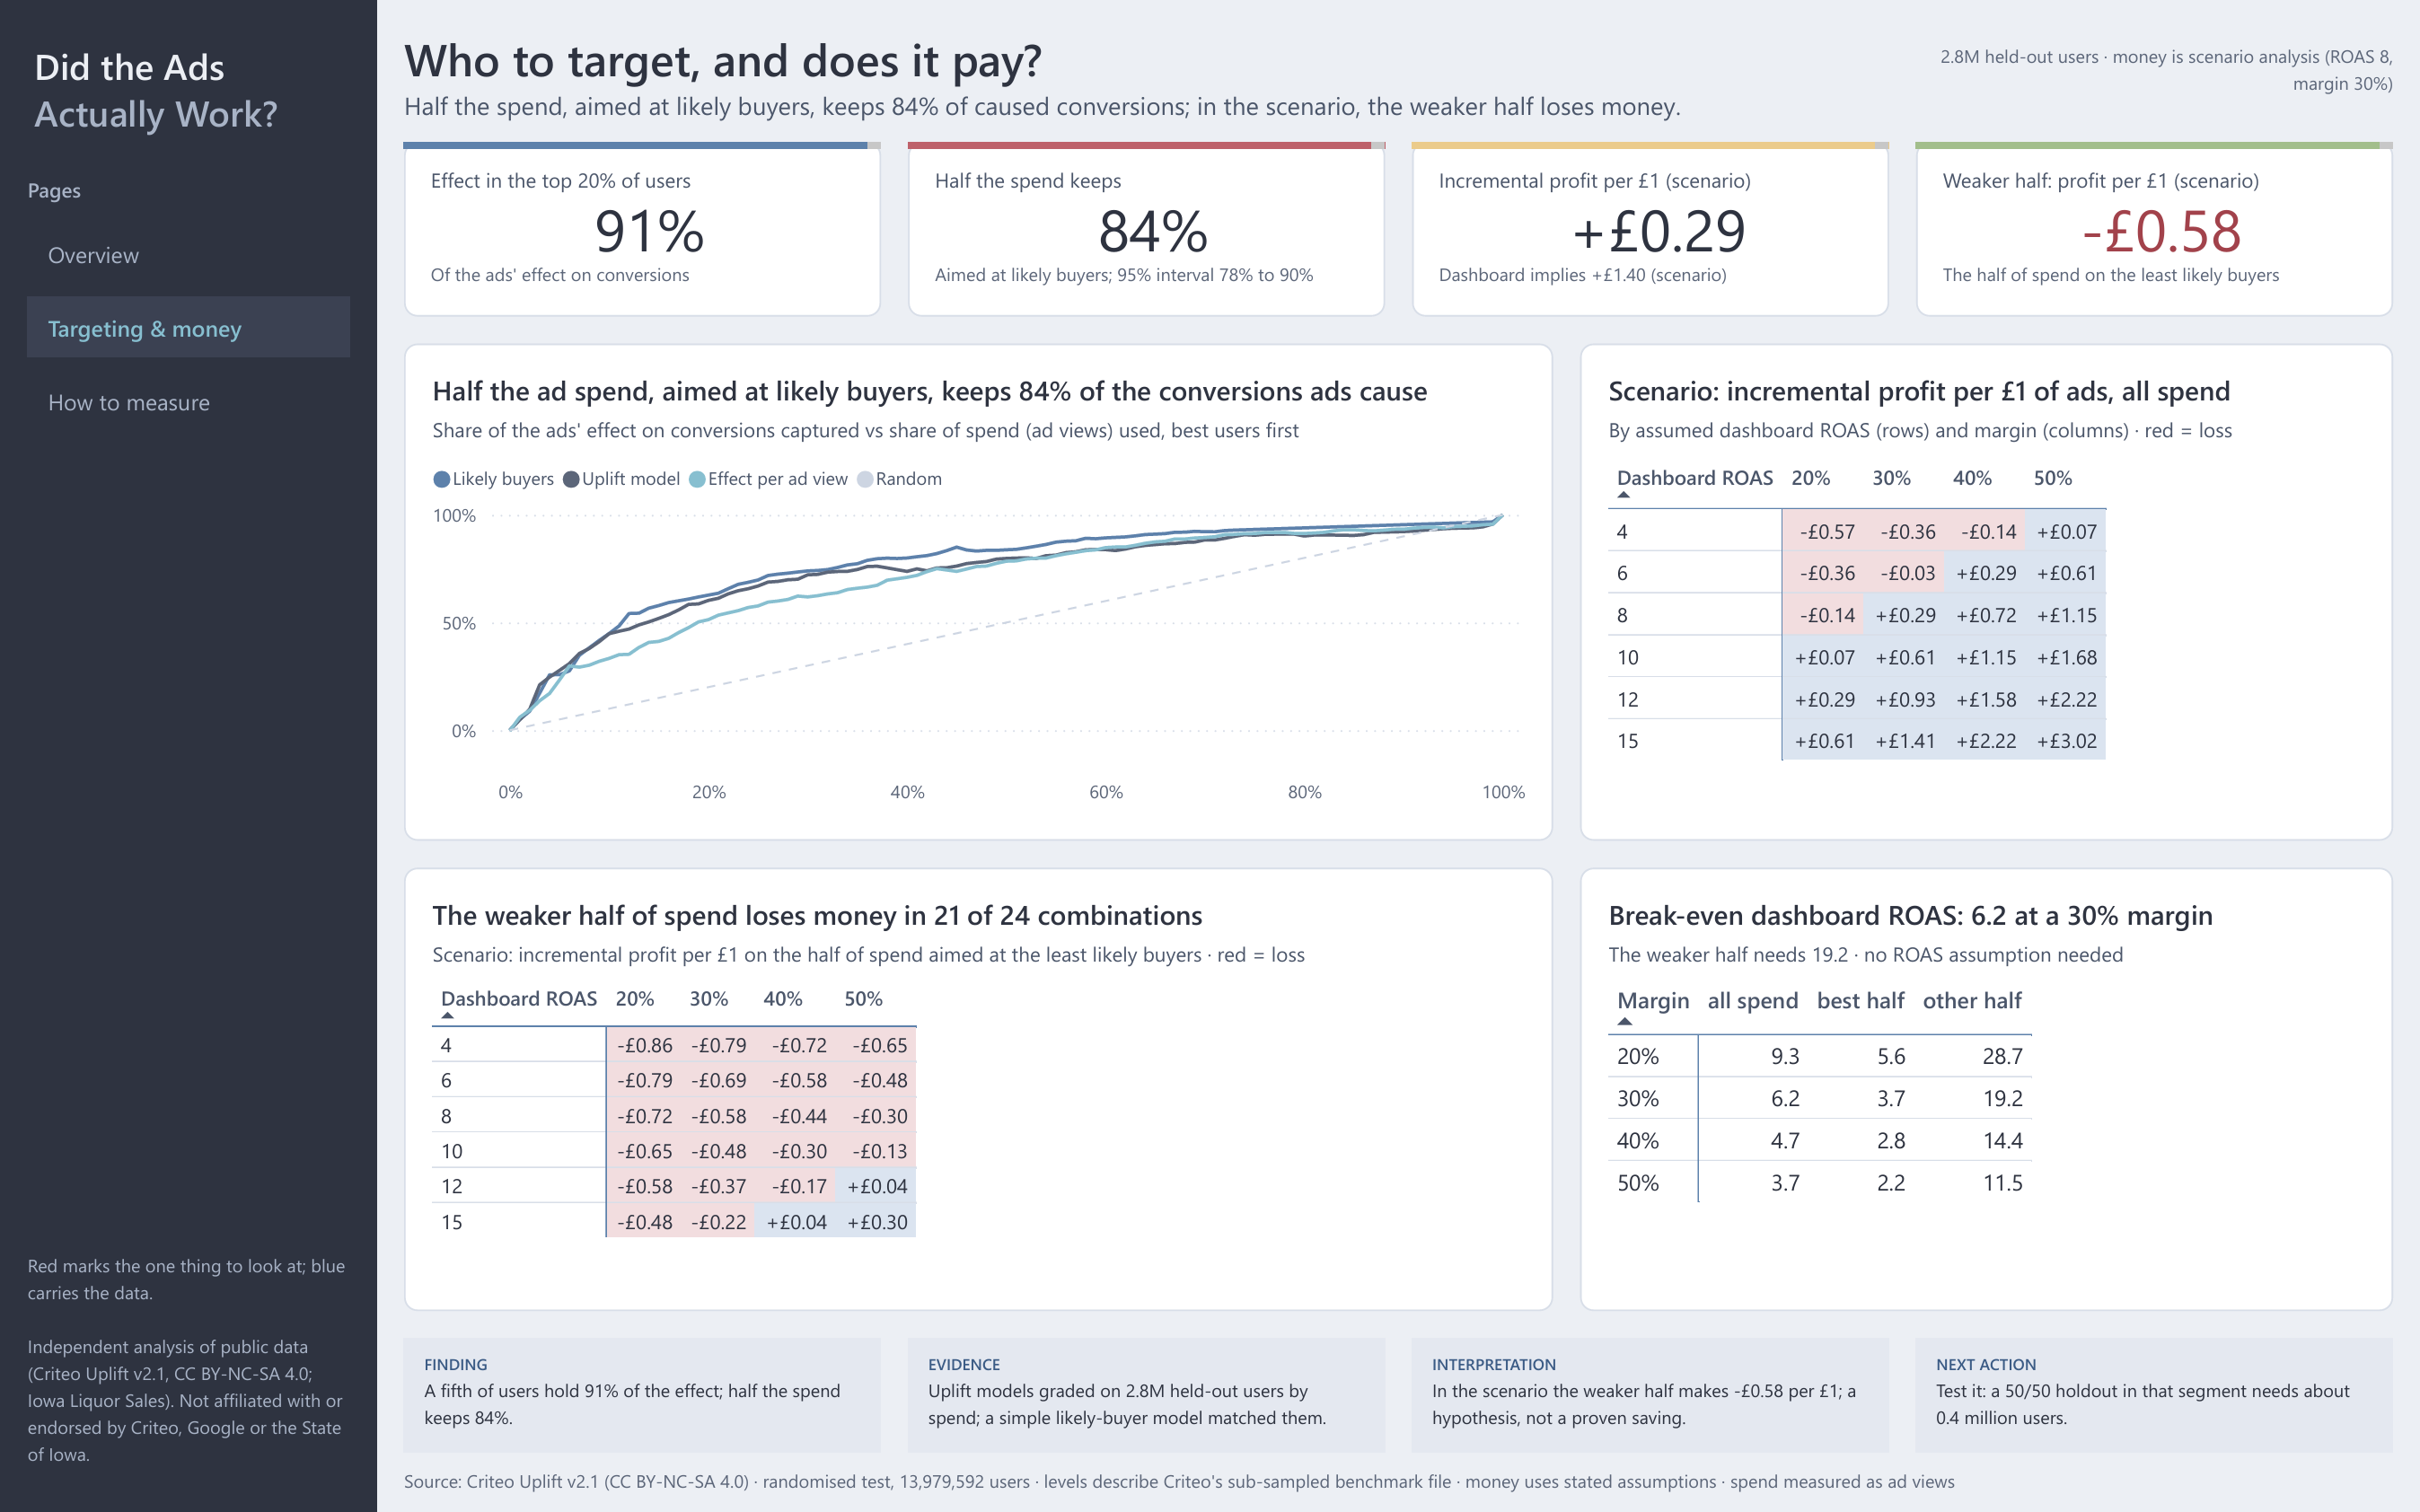

This screenshot's page, from the dashboard's own definition file:
{"tool":"powerbi","page":{"name":"Targeting & money","canvas":[1440,900],"ordinal":1},"visuals":[{"type":"textbox","box":[0,0,224,900],"z":0},{"type":"textbox","box":[16,104,192,24],"z":100},{"type":"actionButton","box":[16,132,192,36],"z":200},{"type":"actionButton","box":[16,176,192,36],"z":300},{"type":"actionButton","box":[16,220,192,36],"z":400},{"type":"textbox","box":[16,744,192,140],"z":500},{"type":"textbox","box":[240,16,884,56],"z":600},{"type":"textbox","box":[1140,16,284,56],"z":700},{"type":"textbox","box":[240,84,284,104],"z":800},{"type":"textbox","box":[240,84,284,4],"z":900},{"type":"card","title":"Effect in the top 20% of users","fields":{"Values":["_Measures.Top 20 Share"]},"box":[240,90,284,64],"z":1000},{"type":"textbox","box":[240,154,284,28],"z":1100},{"type":"textbox","box":[540,84,284,104],"z":1200},{"type":"textbox","box":[540,84,284,4],"z":1300},{"type":"card","title":"Half the spend keeps","fields":{"Values":["_Measures.Half Spend Keeps"]},"box":[540,90,284,64],"z":1400},{"type":"textbox","box":[540,154,284,28],"z":1500},{"type":"textbox","box":[840,84,284,104],"z":1600},{"type":"textbox","box":[840,84,284,4],"z":1700},{"type":"card","title":"Incremental profit per £1 (scenario)","fields":{"Values":["_Measures.Incremental Profit per Pound"]},"box":[840,90,284,64],"z":1800},{"type":"textbox","box":[840,154,284,28],"z":1900},{"type":"textbox","box":[1140,84,284,104],"z":2000},{"type":"textbox","box":[1140,84,284,4],"z":2100},{"type":"card","title":"Weaker half: profit per £1 (scenario)","fields":{"Values":["_Measures.Weaker Half Profit per Pound"]},"box":[1140,90,284,64],"z":2200},{"type":"textbox","box":[1140,154,284,28],"z":2300},{"type":"lineChart","title":"Half the ad spend, aimed at likely buyers, keeps 84% of the conversions ads cause","fields":{"Category":["targeting_curves.x"],"Y":["_Measures.Captured Likely Buyers","_Measures.Captured Uplift Model","_Measures.Captured Per Ad View","_Measures.Random Targeting"]},"box":[240,204,684,296],"z":2400},{"type":"pivotTable","title":"Scenario: incremental profit per £1 of ads, all spend","fields":{"Columns":["money_sensitivity.margin"],"Rows":["money_sensitivity.dashboard_roas"],"Values":["_Measures.Profit All Spend"]},"box":[940,204,484,296],"z":2500},{"type":"pivotTable","title":"The weaker half of spend loses money in 21 of 24 combinations","fields":{"Columns":["money_sensitivity.margin"],"Rows":["money_sensitivity.dashboard_roas"],"Values":["_Measures.Profit Weaker Half"]},"box":[240,516,684,264],"z":2600},{"type":"pivotTable","title":"Break-even dashboard ROAS: 6.2 at a 30% margin","fields":{"Columns":["break_even.spend"],"Rows":["break_even.margin"],"Values":["_Measures.Break Even ROAS Cell"]},"box":[940,516,484,264],"z":2700},{"type":"textbox","box":[240,796,284,68],"z":2800},{"type":"textbox","box":[540,796,284,68],"z":2900},{"type":"textbox","box":[840,796,284,68],"z":3000},{"type":"textbox","box":[1140,796,284,68],"z":3100},{"type":"textbox","box":[240,872,1184,20],"z":3200}]}

Visuals, with their boxes on the page's 1440x900 design canvas (x1, y1, x2, y2). These are canvas units, not pixel positions in the 2420x1512 screenshot, which may show the page scaled, cropped or inside an application window:
textbox: l=0, t=0, r=224, b=900
textbox: l=16, t=104, r=208, b=128
actionButton: l=16, t=132, r=208, b=168
actionButton: l=16, t=176, r=208, b=212
actionButton: l=16, t=220, r=208, b=256
textbox: l=16, t=744, r=208, b=884
textbox: l=240, t=16, r=1124, b=72
textbox: l=1140, t=16, r=1424, b=72
textbox: l=240, t=84, r=524, b=188
textbox: l=240, t=84, r=524, b=88
"Effect in the top 20% of users" card: l=240, t=90, r=524, b=154
textbox: l=240, t=154, r=524, b=182
textbox: l=540, t=84, r=824, b=188
textbox: l=540, t=84, r=824, b=88
"Half the spend keeps" card: l=540, t=90, r=824, b=154
textbox: l=540, t=154, r=824, b=182
textbox: l=840, t=84, r=1124, b=188
textbox: l=840, t=84, r=1124, b=88
"Incremental profit per £1 (scenario)" card: l=840, t=90, r=1124, b=154
textbox: l=840, t=154, r=1124, b=182
textbox: l=1140, t=84, r=1424, b=188
textbox: l=1140, t=84, r=1424, b=88
"Weaker half: profit per £1 (scenario)" card: l=1140, t=90, r=1424, b=154
textbox: l=1140, t=154, r=1424, b=182
"Half the ad spend, aimed at likely buyers, keeps 84% of the conversions ads cause" lineChart: l=240, t=204, r=924, b=500
"Scenario: incremental profit per £1 of ads, all spend" pivotTable: l=940, t=204, r=1424, b=500
"The weaker half of spend loses money in 21 of 24 combinations" pivotTable: l=240, t=516, r=924, b=780
"Break-even dashboard ROAS: 6.2 at a 30% margin" pivotTable: l=940, t=516, r=1424, b=780
textbox: l=240, t=796, r=524, b=864
textbox: l=540, t=796, r=824, b=864
textbox: l=840, t=796, r=1124, b=864
textbox: l=1140, t=796, r=1424, b=864
textbox: l=240, t=872, r=1424, b=892
